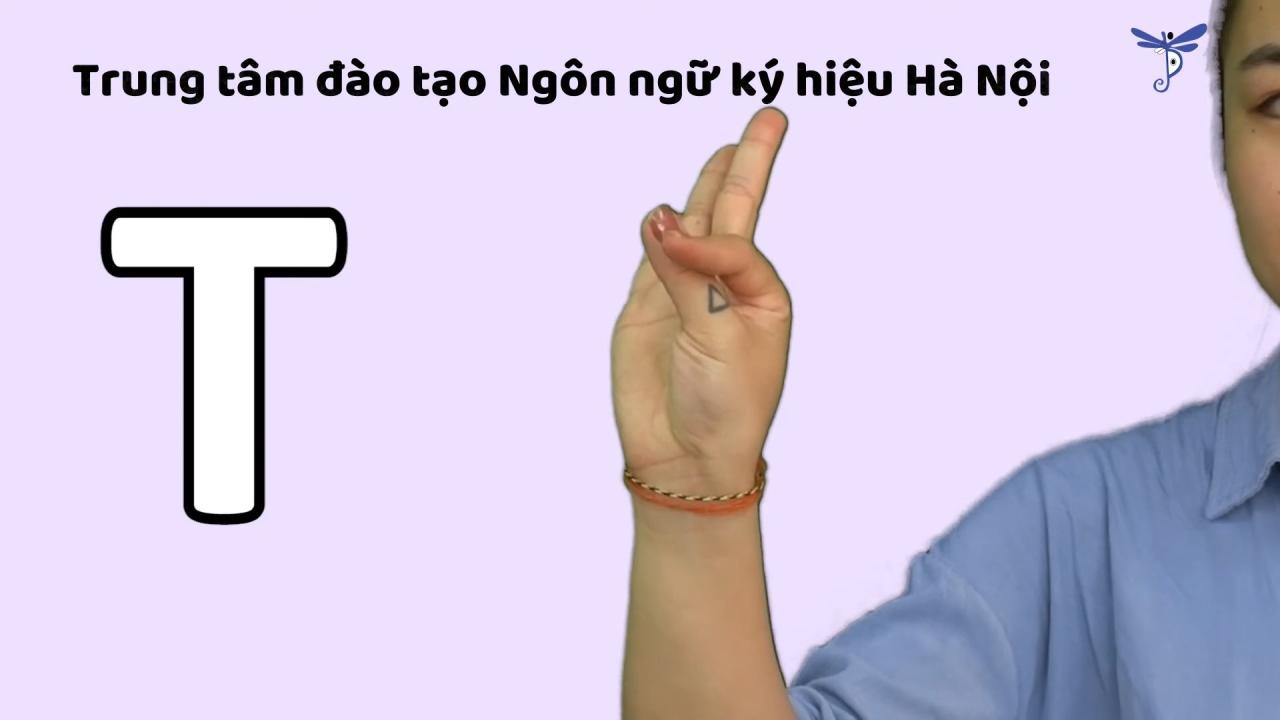T: (616, 97, 796, 495)
